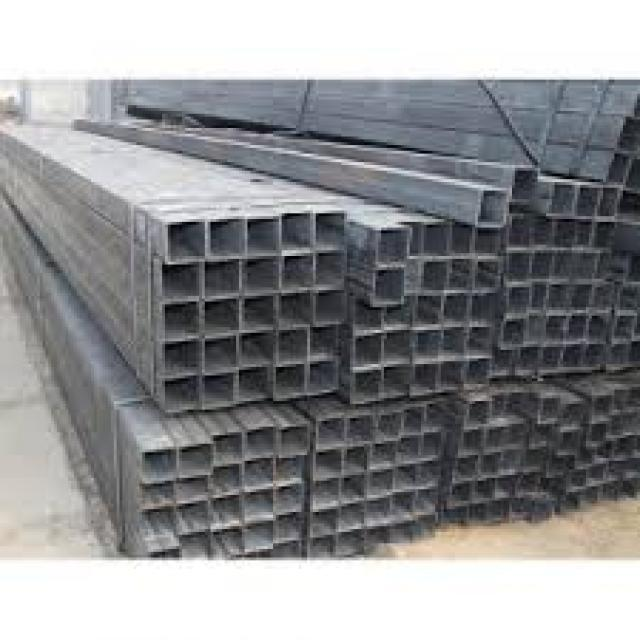pipe: (161, 302, 199, 336), (167, 224, 204, 258), (162, 341, 200, 374), (162, 264, 201, 296), (203, 260, 242, 292), (208, 222, 244, 255), (203, 298, 240, 330), (278, 294, 314, 326), (203, 338, 238, 370), (247, 220, 279, 254), (314, 214, 346, 248), (243, 258, 277, 290), (353, 294, 384, 329), (314, 252, 344, 287), (376, 267, 406, 302), (163, 378, 199, 407), (282, 214, 312, 248), (385, 292, 414, 327), (281, 257, 313, 288), (242, 296, 274, 326), (240, 335, 274, 363), (310, 328, 340, 359), (617, 115, 640, 154), (203, 373, 235, 401), (380, 229, 408, 261), (473, 226, 500, 259), (606, 151, 632, 185), (316, 293, 346, 322), (276, 332, 306, 361), (246, 426, 277, 454), (398, 220, 421, 257), (142, 451, 176, 476), (243, 488, 273, 516), (278, 426, 310, 452), (141, 509, 174, 534), (616, 189, 640, 223), (240, 368, 268, 397), (353, 370, 382, 398), (180, 448, 210, 475), (480, 190, 503, 225), (514, 167, 537, 201), (212, 526, 242, 552), (356, 334, 380, 366), (275, 366, 304, 392), (212, 435, 242, 460), (142, 482, 176, 504), (509, 216, 532, 248), (384, 329, 411, 356), (211, 498, 241, 522), (244, 520, 274, 544), (179, 532, 209, 556), (213, 464, 240, 490), (423, 226, 450, 252), (412, 364, 437, 392), (471, 294, 496, 322), (414, 332, 440, 358), (275, 512, 299, 540), (386, 364, 410, 392), (423, 262, 447, 290), (318, 418, 346, 442), (308, 535, 337, 558), (552, 218, 574, 248), (374, 412, 400, 437), (309, 364, 336, 388), (452, 222, 471, 256), (553, 182, 573, 214), (468, 326, 492, 352), (442, 328, 466, 354), (348, 415, 372, 441), (344, 446, 368, 472), (245, 460, 272, 483), (418, 296, 441, 323), (316, 480, 339, 507), (179, 479, 205, 502), (449, 262, 472, 288), (538, 396, 560, 423), (178, 505, 207, 525), (506, 254, 530, 278), (317, 450, 342, 473), (508, 285, 531, 310), (476, 262, 498, 288), (468, 358, 488, 386), (468, 398, 488, 426), (578, 186, 596, 217), (622, 252, 640, 283), (276, 458, 301, 480), (402, 406, 424, 431), (445, 296, 466, 322), (600, 186, 618, 216), (277, 486, 301, 508), (505, 318, 527, 342), (576, 254, 596, 280), (441, 362, 464, 384), (313, 509, 335, 532), (564, 402, 586, 425), (427, 404, 448, 428), (625, 158, 640, 191), (533, 252, 552, 278), (549, 285, 567, 312), (546, 315, 564, 342), (508, 392, 526, 419), (342, 478, 364, 500), (341, 504, 363, 526), (530, 425, 552, 447), (398, 440, 422, 460), (571, 288, 591, 312), (590, 314, 608, 340), (368, 473, 390, 494), (533, 215, 547, 248), (424, 434, 444, 457), (339, 533, 362, 553), (416, 516, 439, 536), (494, 348, 514, 371), (457, 457, 478, 478), (371, 444, 393, 464), (366, 502, 390, 520), (568, 316, 586, 340), (486, 427, 504, 451), (560, 430, 578, 454), (418, 465, 439, 485), (518, 347, 538, 368), (464, 428, 484, 449), (392, 524, 414, 543), (556, 253, 574, 276), (542, 345, 560, 368), (368, 530, 388, 550), (564, 345, 580, 370), (594, 394, 610, 419), (616, 318, 634, 340), (586, 346, 604, 368), (576, 220, 590, 248), (481, 454, 498, 477), (491, 394, 504, 424), (396, 468, 416, 487), (452, 483, 471, 503), (528, 314, 542, 341), (532, 283, 546, 309), (393, 494, 411, 514), (621, 288, 639, 308), (609, 347, 627, 367), (534, 500, 552, 520), (512, 499, 530, 518), (568, 469, 588, 486), (590, 423, 606, 444), (594, 223, 608, 247), (476, 482, 494, 500), (470, 504, 488, 522), (416, 490, 433, 509), (452, 506, 468, 526), (520, 475, 538, 492), (596, 288, 610, 309), (507, 424, 519, 448), (491, 502, 507, 520), (612, 416, 626, 436), (614, 389, 626, 412), (501, 452, 515, 470), (592, 466, 608, 480), (500, 478, 512, 495), (609, 460, 619, 478), (629, 461, 639, 478)
